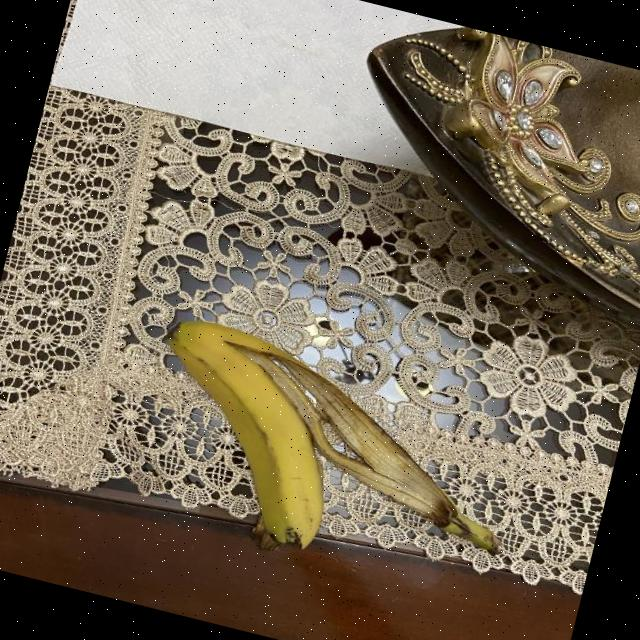banana-peel: (118, 308, 537, 604)
